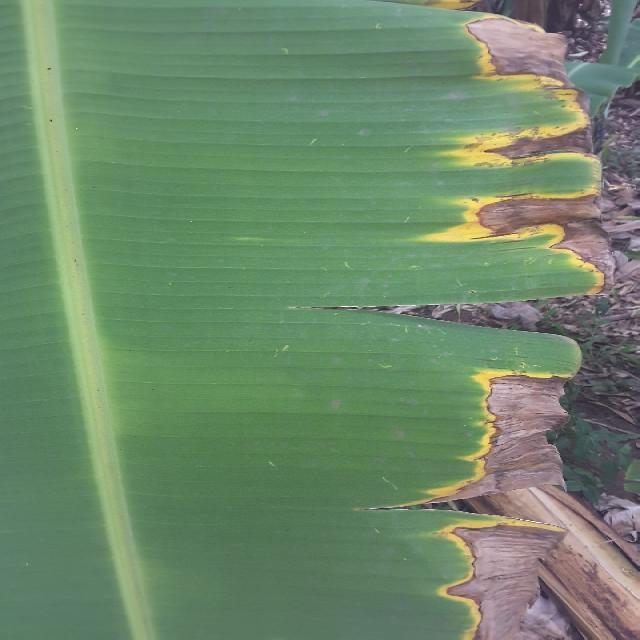Cordana: (272, 0, 590, 640)
